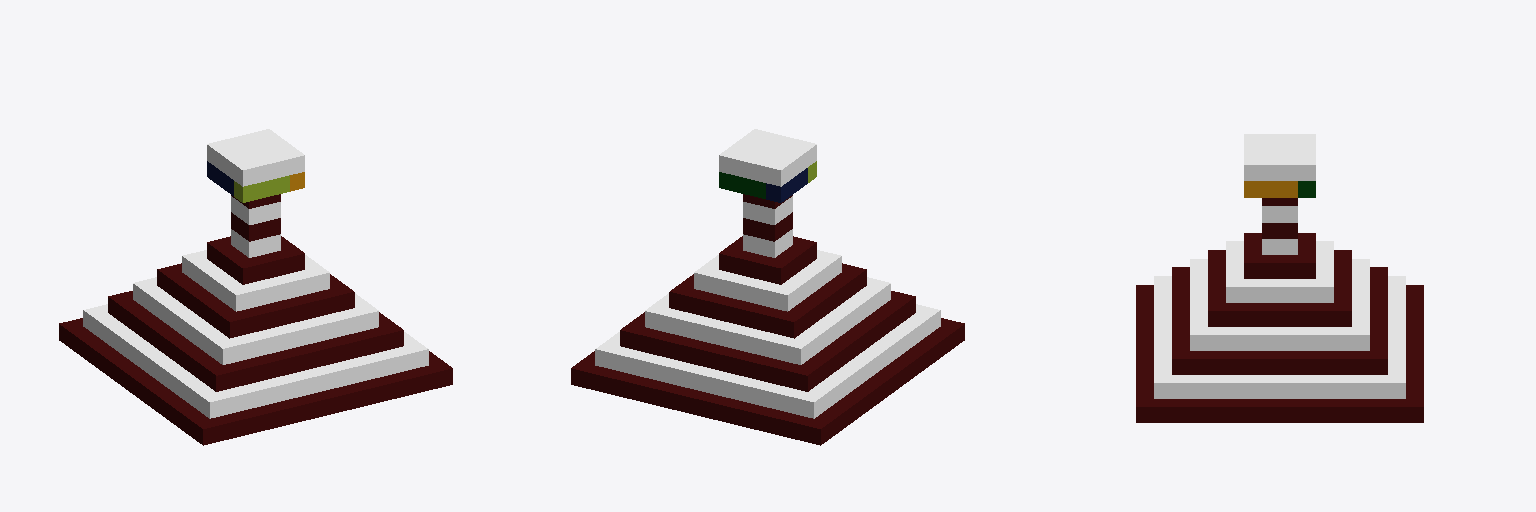
3 views of the same model, side by side, from view 1: azimuth 30°, elevation 25°; view 2: azimuth 150°, elevation 25°; view 3: azimuth 270°, elevation 25° (orthographic).
Parts seen in each view (by area): view 1: object 1; view 2: object 1; view 3: object 1.
Part boxes in pixels (bbox=[...]): object 1: bbox=[59, 129, 452, 445]; object 1: bbox=[571, 129, 964, 445]; object 1: bbox=[1136, 134, 1423, 422].
Bounding box in the file's own units: 1.6 × 1.3 × 1.6.
1 materials, 1 textured.